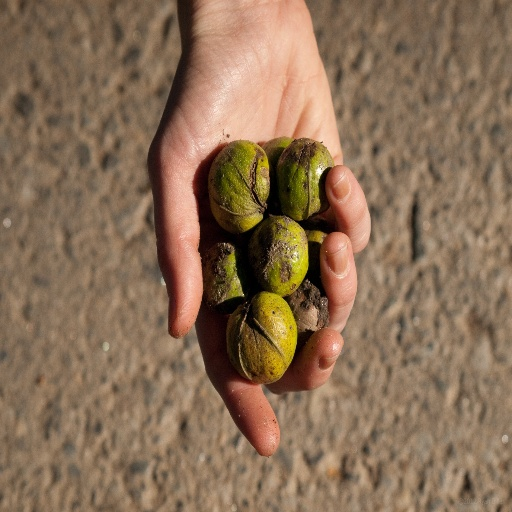hand: (114, 47, 384, 436)
